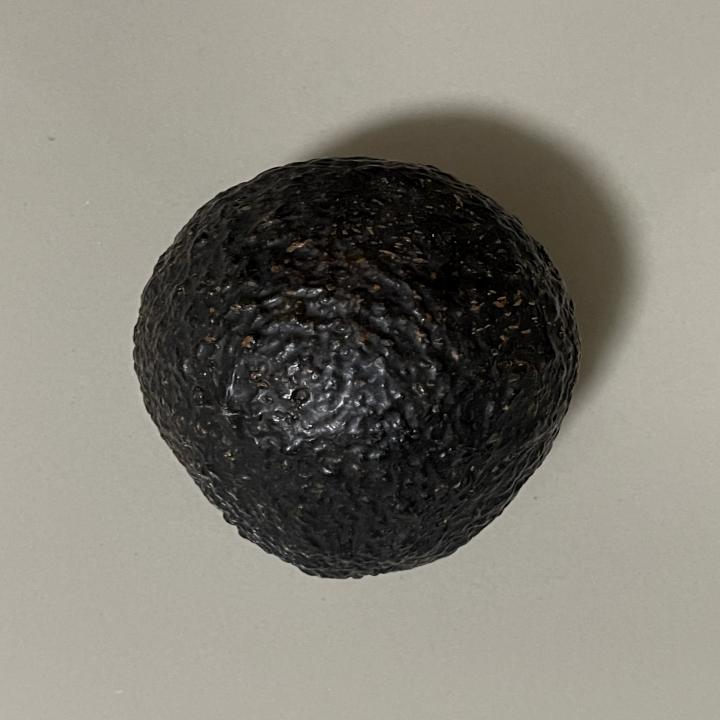Level2: (130, 150, 584, 590)
